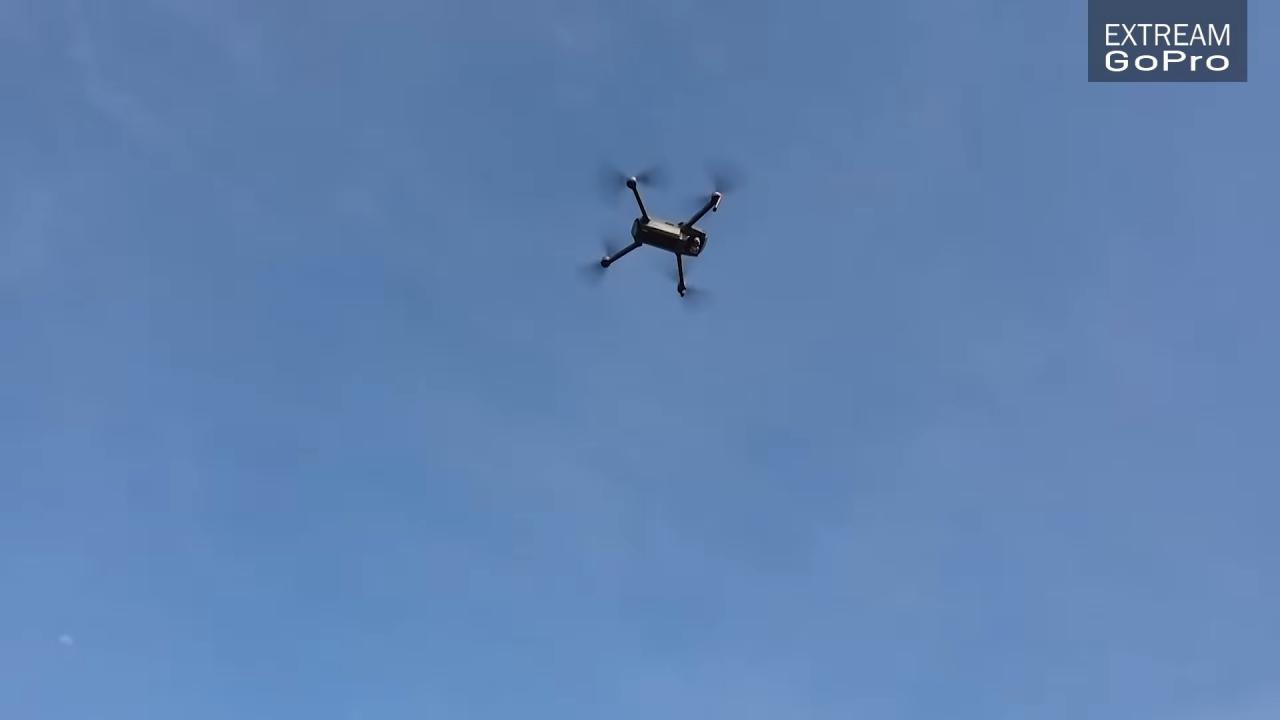Drone: (567, 151, 759, 321)
